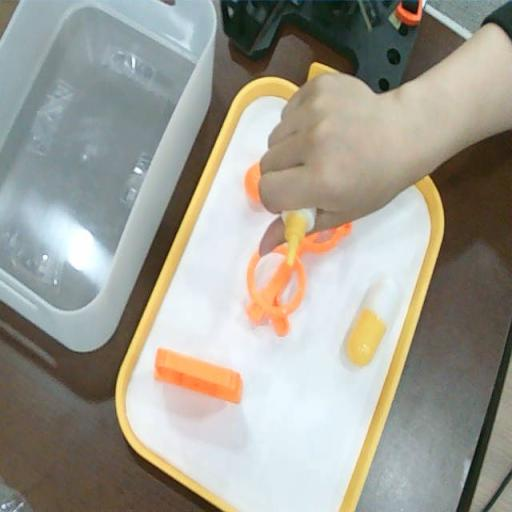hospital: (260, 68, 394, 248)
